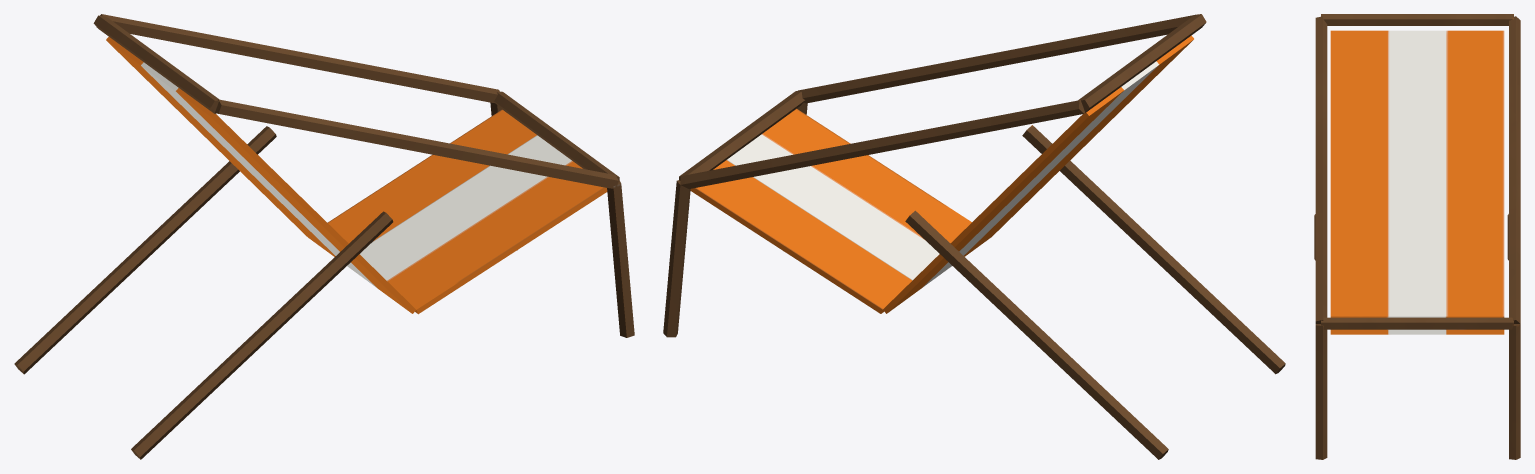
File: lehatko_022d26bc.glb
The picture shows the model from 3 angles, left to right: view 1: azimuth 30°, elevation 25°; view 2: azimuth 150°, elevation 25°; view 3: azimuth 270°, elevation 25°; orthographic projection. The views are drawn at different scales.
Visible parts, largest first — view 1: dum; view 2: dum; view 3: dum.
Part boxes in pixels (<box>): dum: <box>14,14,634,459</box>; dum: <box>663,14,1285,459</box>; dum: <box>1314,14,1520,459</box>.
Size of the model in its own units: 1.49 by 0.9624 by 0.6383.
1 material, 1 textured.
